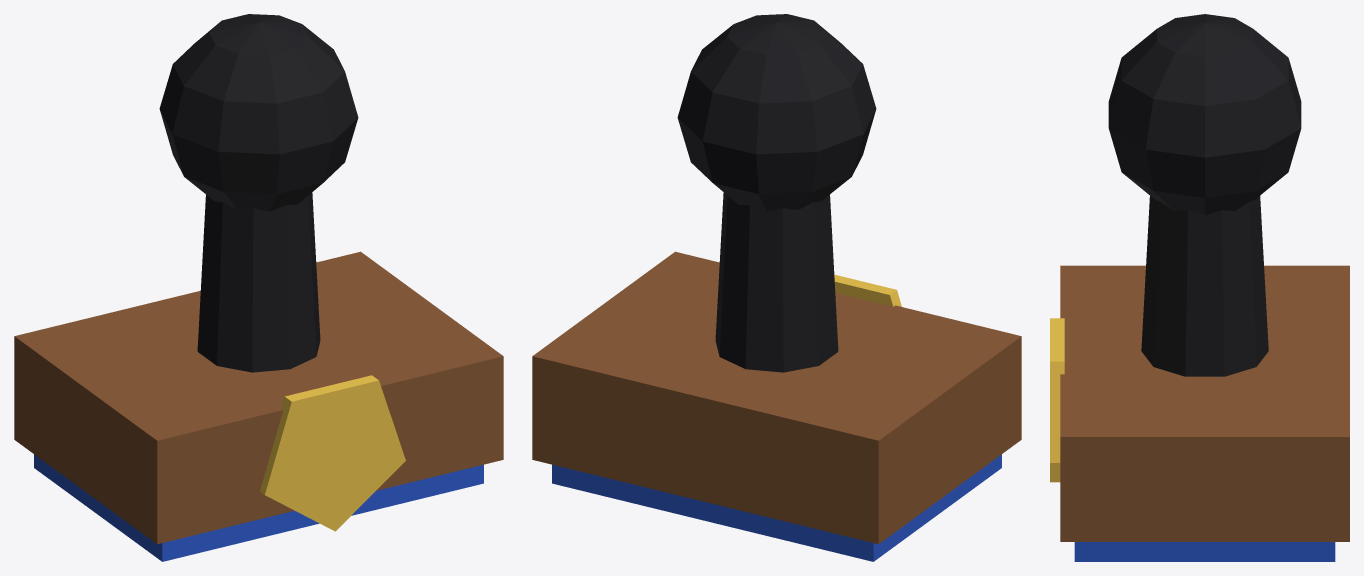
The model's file is fake_station_stamp.glb.
3 renders of one model, left to right at view 1: azimuth 30°, elevation 25°; view 2: azimuth 150°, elevation 25°; view 3: azimuth 270°, elevation 25°, orthographic.
Visible parts, largest first — view 1: base_fstamp_wood, knob_fstamp_black, handle_fstamp_black, star_fstamp_gold, rubber_fstamp_blue; view 2: base_fstamp_wood, knob_fstamp_black, handle_fstamp_black, rubber_fstamp_blue, star_fstamp_gold; view 3: base_fstamp_wood, knob_fstamp_black, handle_fstamp_black, rubber_fstamp_blue, star_fstamp_gold.
Part boxes in pixels (bbox=[...]): base_fstamp_wood: bbox=[14, 251, 503, 544]; knob_fstamp_black: bbox=[159, 14, 358, 211]; handle_fstamp_black: bbox=[197, 192, 320, 372]; star_fstamp_gold: bbox=[260, 375, 405, 531]; rubber_fstamp_blue: bbox=[34, 454, 483, 561]; base_fstamp_wood: bbox=[532, 251, 1021, 544]; knob_fstamp_black: bbox=[677, 14, 876, 211]; handle_fstamp_black: bbox=[715, 192, 838, 372]; rubber_fstamp_blue: bbox=[552, 454, 1001, 561]; star_fstamp_gold: bbox=[834, 274, 901, 306]; base_fstamp_wood: bbox=[1060, 265, 1349, 541]; knob_fstamp_black: bbox=[1108, 14, 1301, 214]; handle_fstamp_black: bbox=[1141, 196, 1268, 376]; rubber_fstamp_blue: bbox=[1074, 542, 1335, 561]; star_fstamp_gold: bbox=[1050, 318, 1064, 482].
Bounding box in the file's own units: 0.14 × 0.175 × 0.1035.
